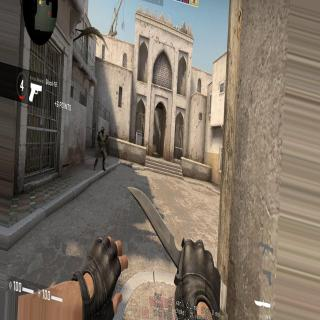CT-Body: (96, 124, 108, 168)
CT-Head: (100, 124, 106, 134)
